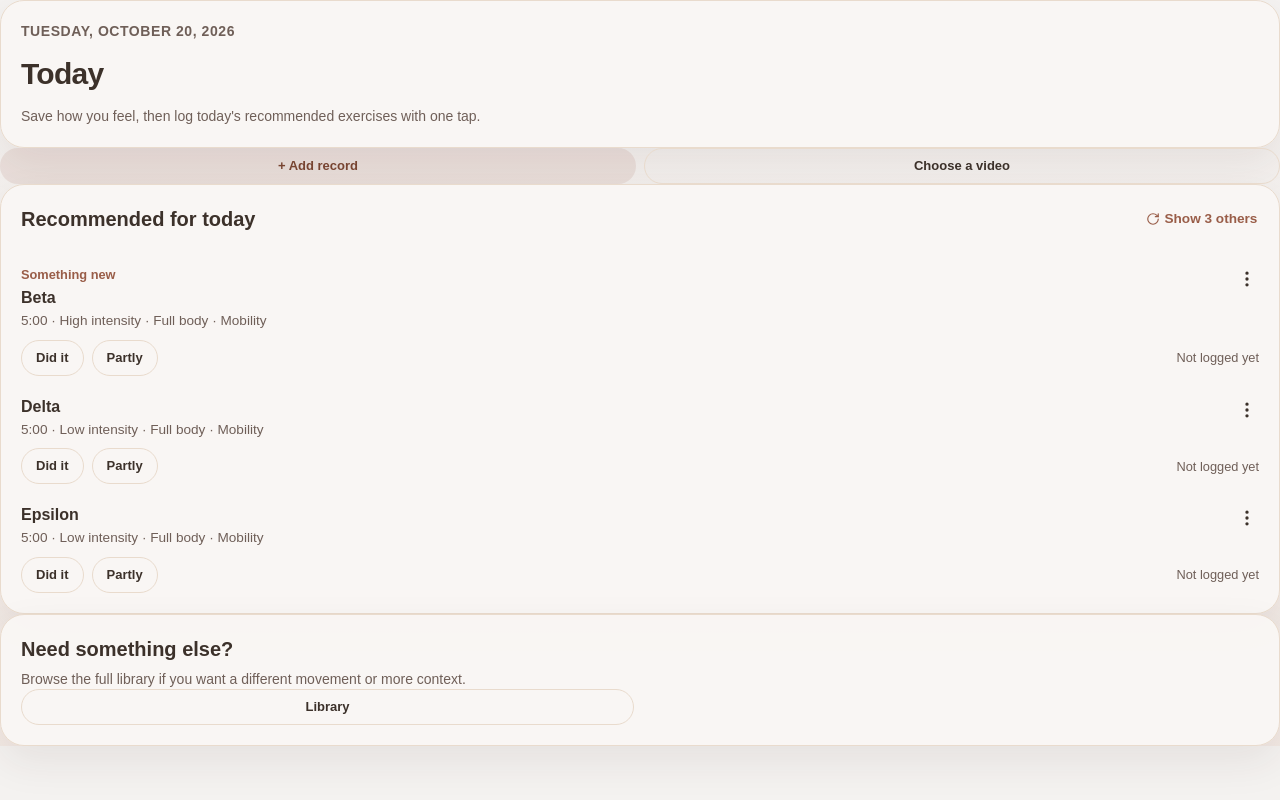
Scenario: keeps the day's recommendations after logging one of them
Click the button "Did it" below "Beta" at [52, 358], box [21,340,84,376]
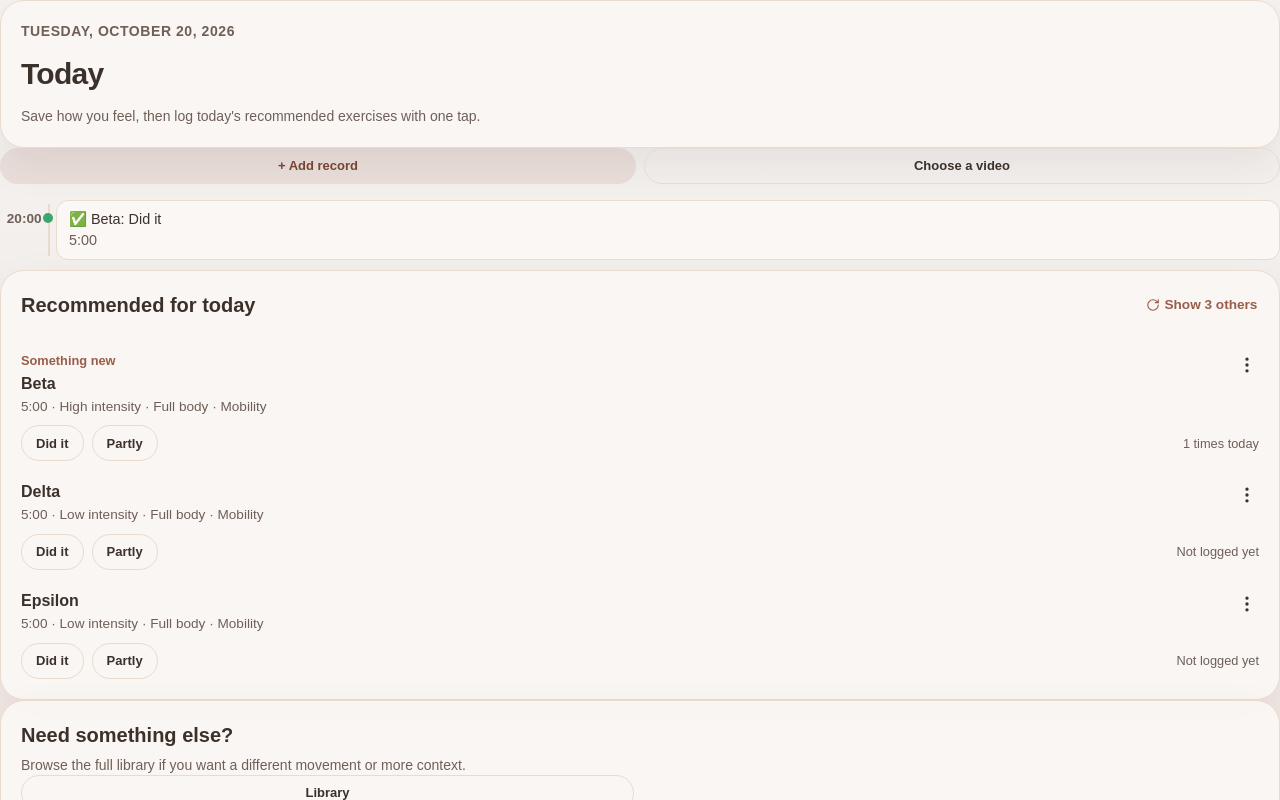
Result: the text "1 times today" is shown at [1183,434,1259,453]
